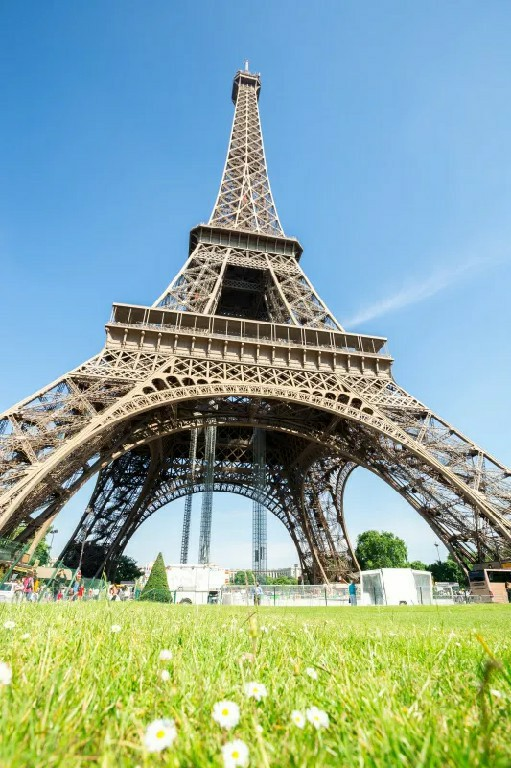Eiffel: (1, 58, 511, 582)
